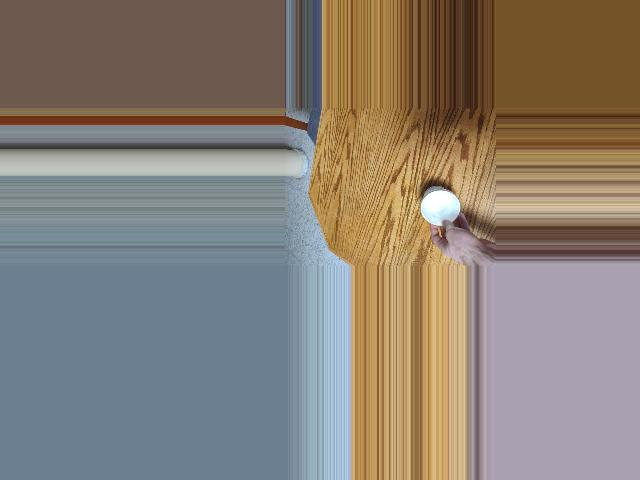cotage: (413, 183, 459, 227)
